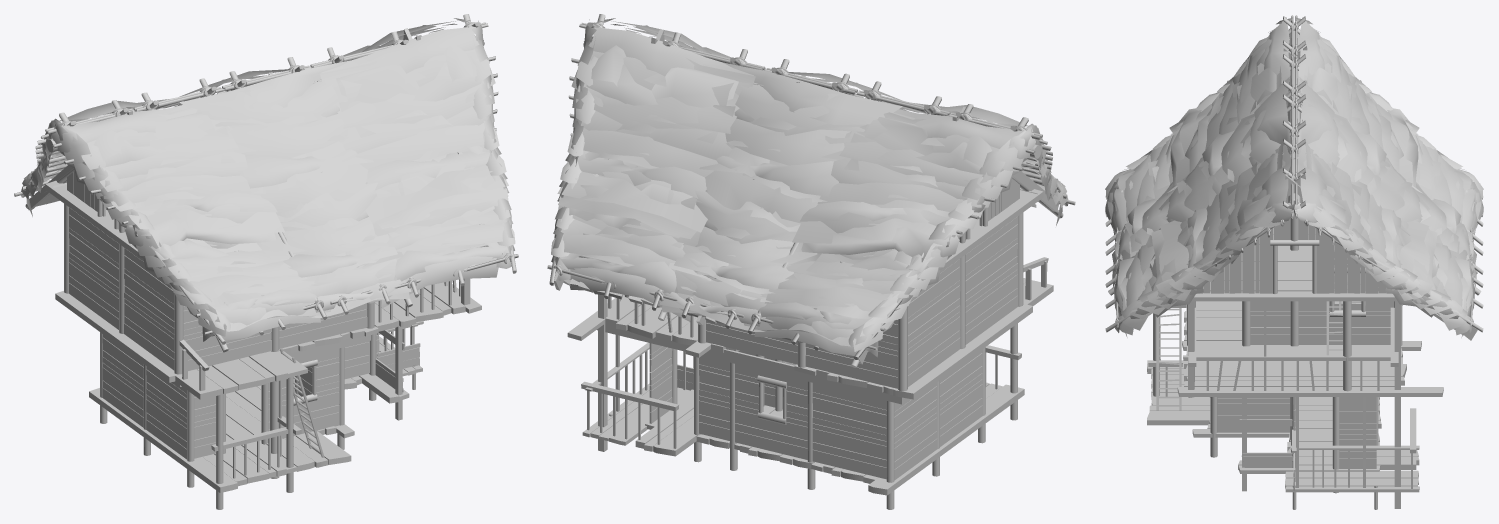
The model's file is lod1_fantasy_house_157e7f3b.glb.
The picture shows the model from 3 angles, left to right: view 1: azimuth 30°, elevation 25°; view 2: azimuth 150°, elevation 25°; view 3: azimuth 270°, elevation 25°; orthographic projection. The views are drawn at different scales.
Parts seen in each view (by area): view 1: thatch_with_opacity.001, construction.000, construction.002; view 2: thatch_with_opacity.001, construction.000, construction.002; view 3: thatch_with_opacity.001, construction.000, construction.002.
Part boxes in pixels (x1,y1,x2,y2): thatch_with_opacity.001: (21,18,515,341); construction.000: (25,28,503,509); construction.002: (14,14,518,344); thatch_with_opacity.001: (551,18,1068,357); construction.000: (554,29,1063,509); construction.002: (547,14,1075,359); thatch_with_opacity.001: (1105,17,1483,337); construction.000: (1108,29,1481,509); construction.002: (1105,15,1483,332).
Size of the model in its own units: 3688 by 2858 by 2949.
Materials: 3 (1 with a texture image).
